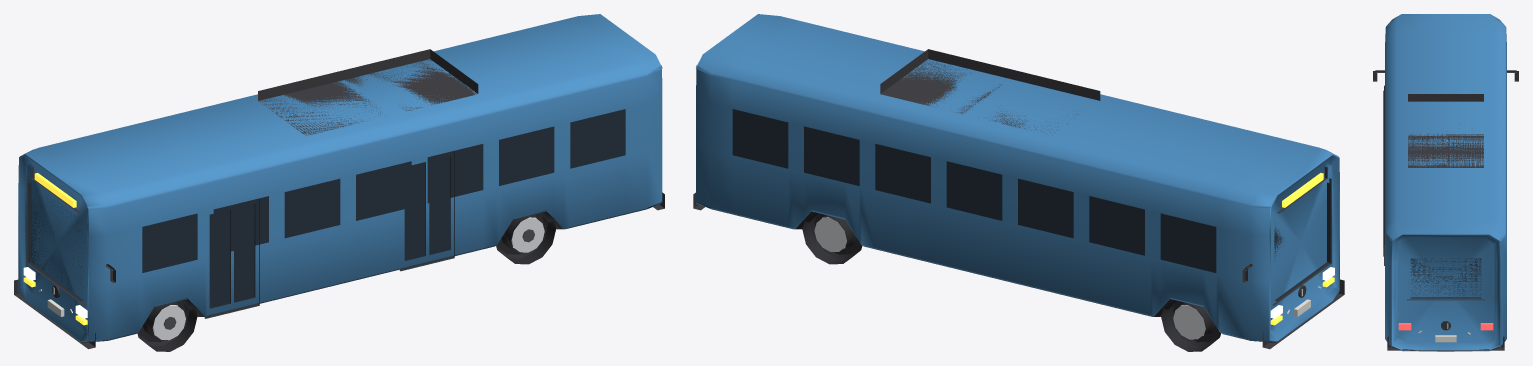
The model's file is bus_modern.glb.
3 views of the same model, side by side, from view 1: azimuth 30°, elevation 25°; view 2: azimuth 150°, elevation 25°; view 3: azimuth 270°, elevation 25° (orthographic). The views are drawn at different scales.
Bounding box in the file's own units: 1.9 × 0.5654 × 0.5272.
